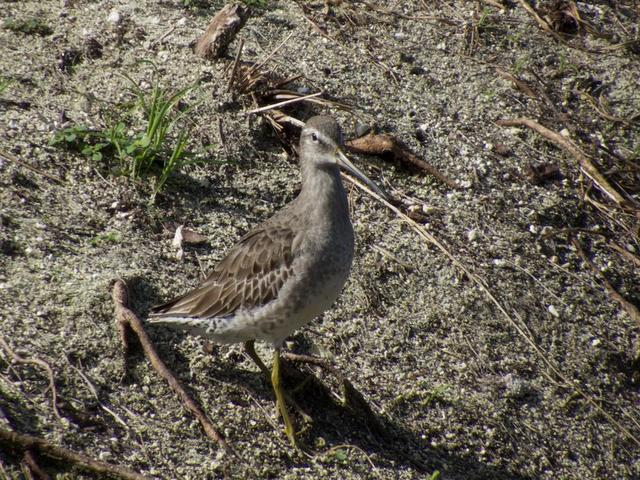bird: (149, 83, 400, 425)
